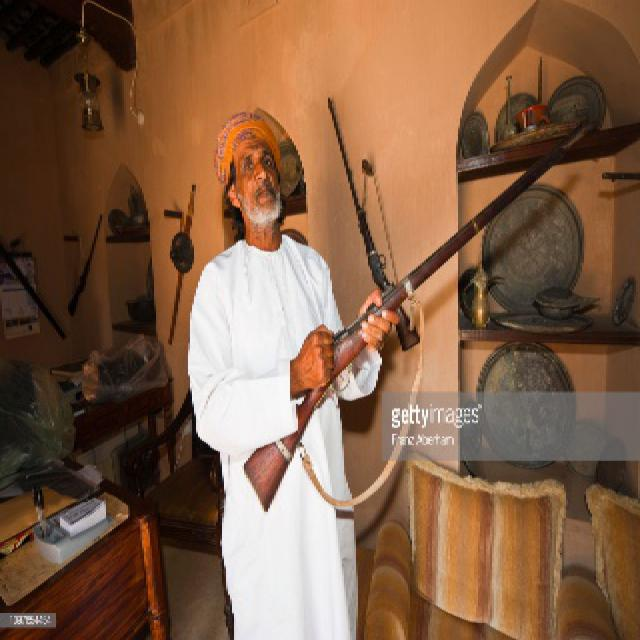long weapon: (246, 122, 580, 505), (322, 88, 422, 349)
